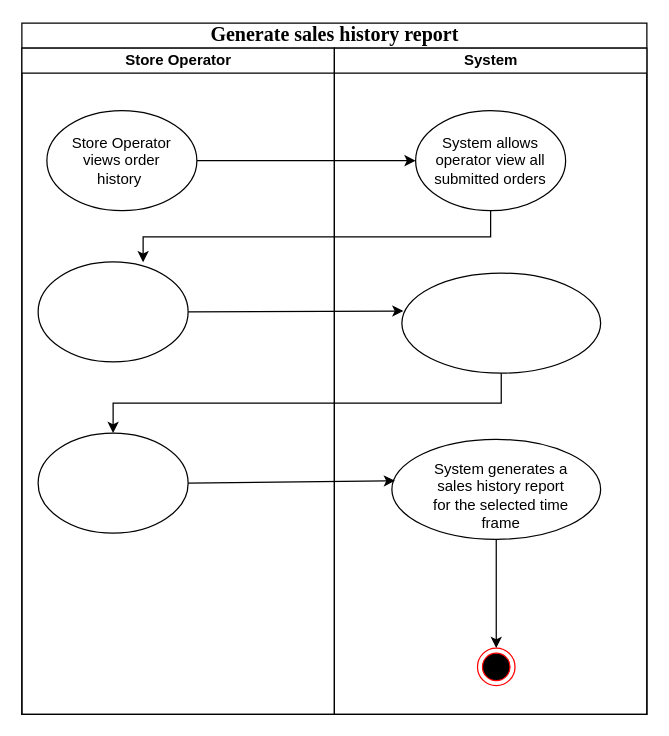
The diagram is 669 pixels wide and 736 high, and some of its shapes have lost their labels. Here are the shapes that lost their labels. From the top down, the centre of each, then its label:
[112,311]: Store Operator views orders for a week time frame
[501,322]: System allows operator to filter search orders
[112,482]: Store Operator clicks generate report
